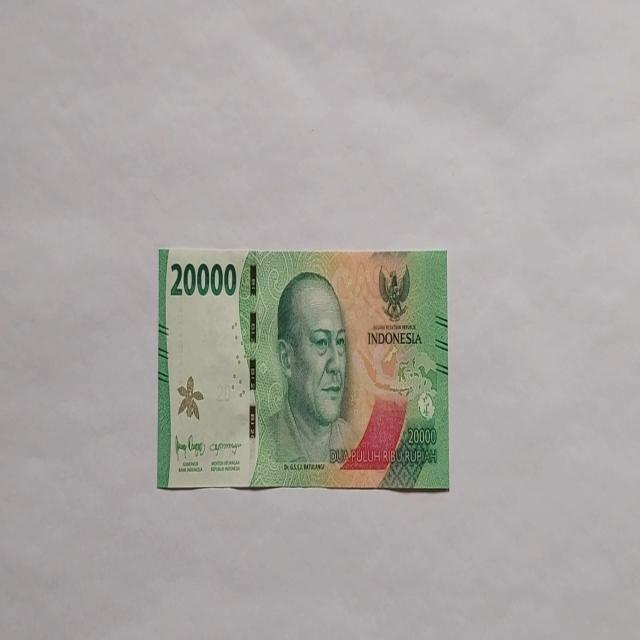dua puluh ribu rupiah: (156, 246, 449, 492), (250, 268, 360, 486)
